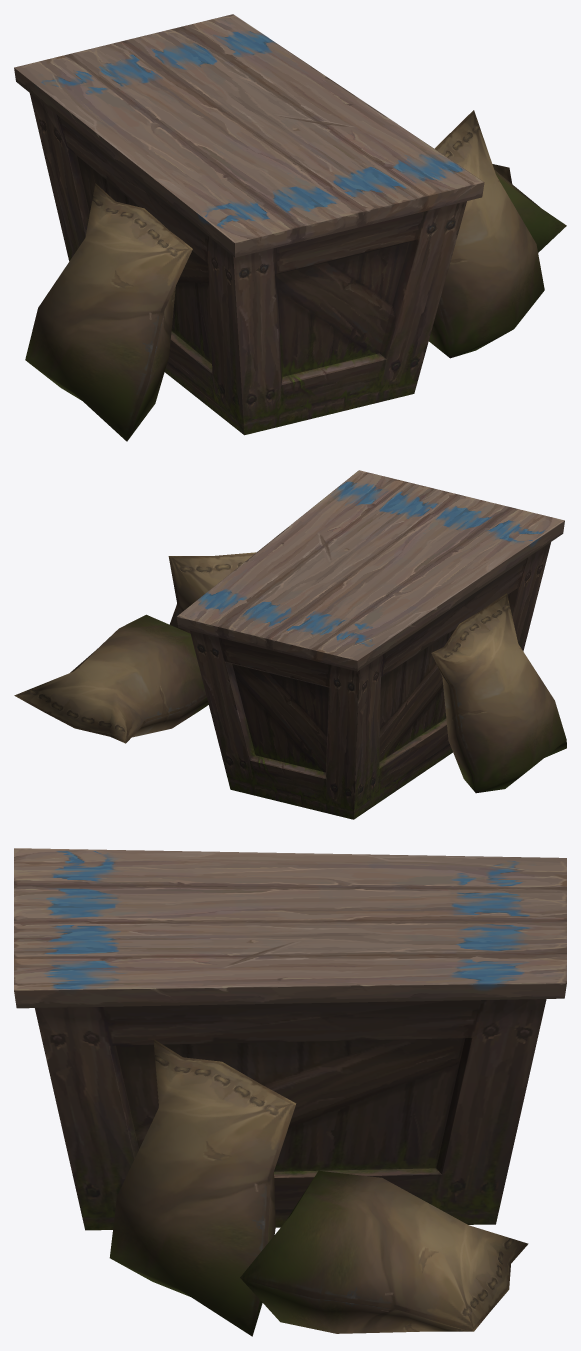
File: fb_lyhg_zj_14.FBX
3 views of the same model, one above another, from view 1: azimuth 30°, elevation 25°; view 2: azimuth 150°, elevation 25°; view 3: azimuth 270°, elevation 25° (orthographic). The views are drawn at different scales.
Parts seen in each view (by area): view 1: fb_lyhg_zj_14; view 2: fb_lyhg_zj_14; view 3: fb_lyhg_zj_14.
Part boxes in pixels (left/top/right/bottom): fb_lyhg_zj_14: left=14, top=14, right=566, bottom=441; fb_lyhg_zj_14: left=14, top=470, right=566, bottom=819; fb_lyhg_zj_14: left=14, top=848, right=566, bottom=1336.
Size of the model in its own units: 220 by 85.16 by 162.
